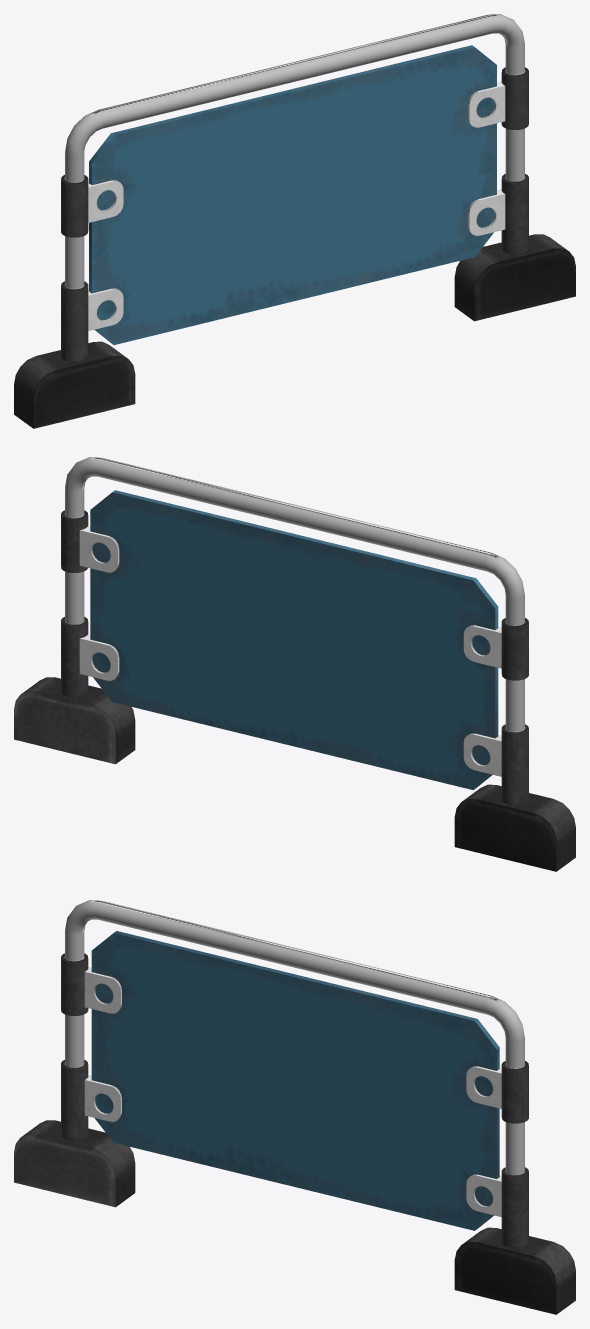
The model's file is Rails01.FBX.
3 renders of one model, top to bottom at view 1: azimuth 30°, elevation 25°; view 2: azimuth 150°, elevation 25°; view 3: azimuth 330°, elevation 25°, orthographic.
Parts seen in each view (by area): view 1: Rails01_Glass, Rails01; view 2: Rails01_Glass, Rails01; view 3: Rails01_Glass, Rails01.
Part boxes in pixels (bbox=[...]): Rails01_Glass: bbox=[89, 45, 496, 344]; Rails01: bbox=[14, 14, 575, 428]; Rails01_Glass: bbox=[90, 490, 498, 790]; Rails01: bbox=[14, 457, 575, 871]; Rails01_Glass: bbox=[91, 931, 499, 1230]; Rails01: bbox=[14, 900, 575, 1314].
Bounding box in the file's own units: 178 × 91.87 × 11.14.
2 materials, 2 textured.
